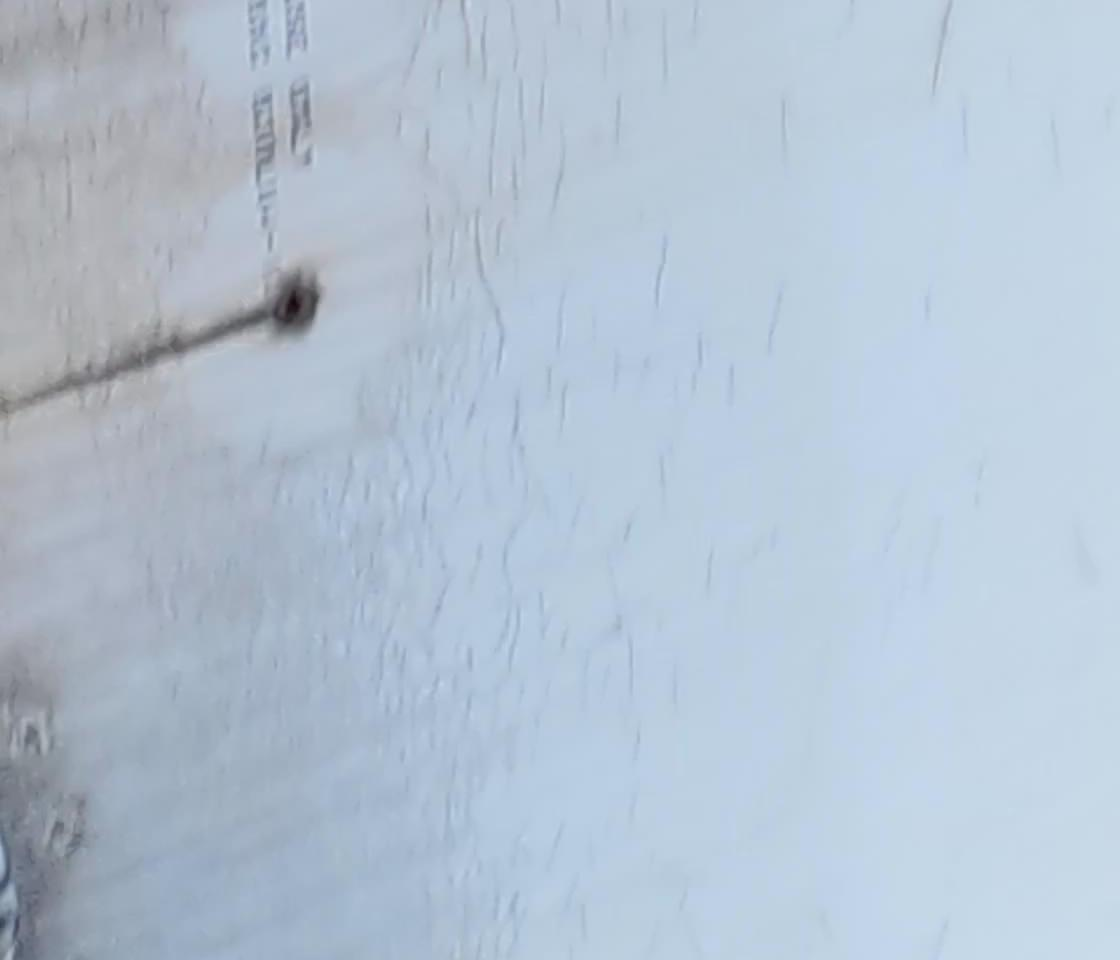rivet_damage: (264, 271, 329, 341)
